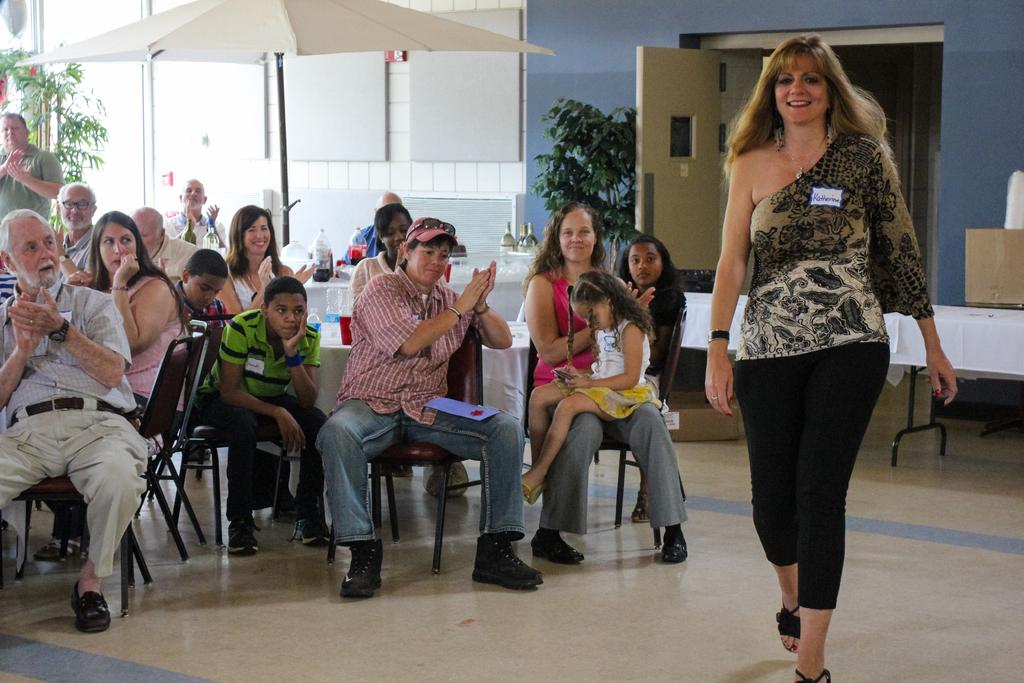Sem Máscara: (9, 219, 57, 285), (773, 60, 825, 119), (559, 201, 592, 262), (266, 287, 302, 335), (622, 239, 661, 282), (97, 221, 134, 264), (409, 239, 441, 288), (126, 213, 160, 254), (183, 271, 220, 308), (61, 184, 94, 225), (378, 211, 407, 255), (568, 299, 617, 325), (238, 211, 269, 248), (3, 113, 24, 148), (182, 177, 202, 207)
